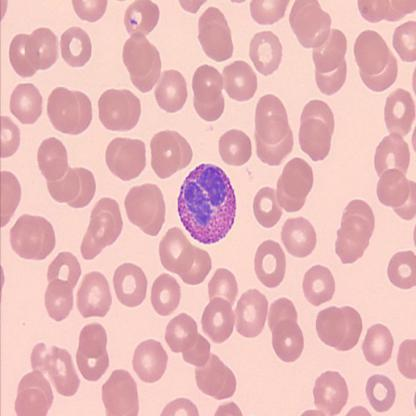Eosinophil: (177, 162, 236, 244)
